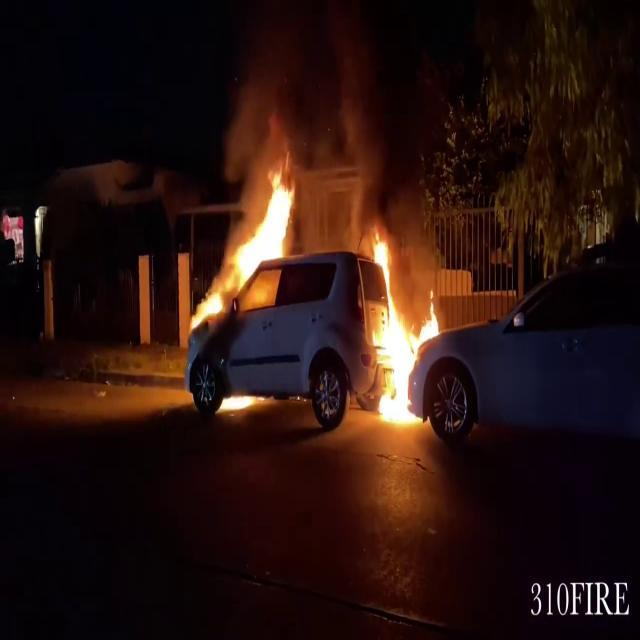Fire: (196, 160, 304, 327), (366, 231, 440, 429)
Smoke: (219, 1, 432, 222)
